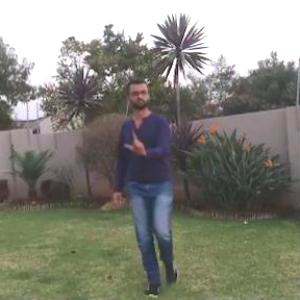land_hand: (124, 123, 155, 162)
